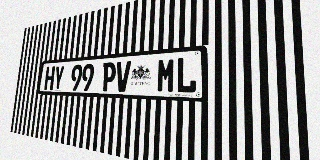9: (81, 63, 95, 91), (70, 64, 83, 91)
H: (44, 66, 55, 90)
L: (176, 56, 197, 93)
M: (156, 58, 176, 93)
P: (101, 62, 116, 91)
V: (115, 61, 131, 92)
Y: (53, 66, 65, 90)
